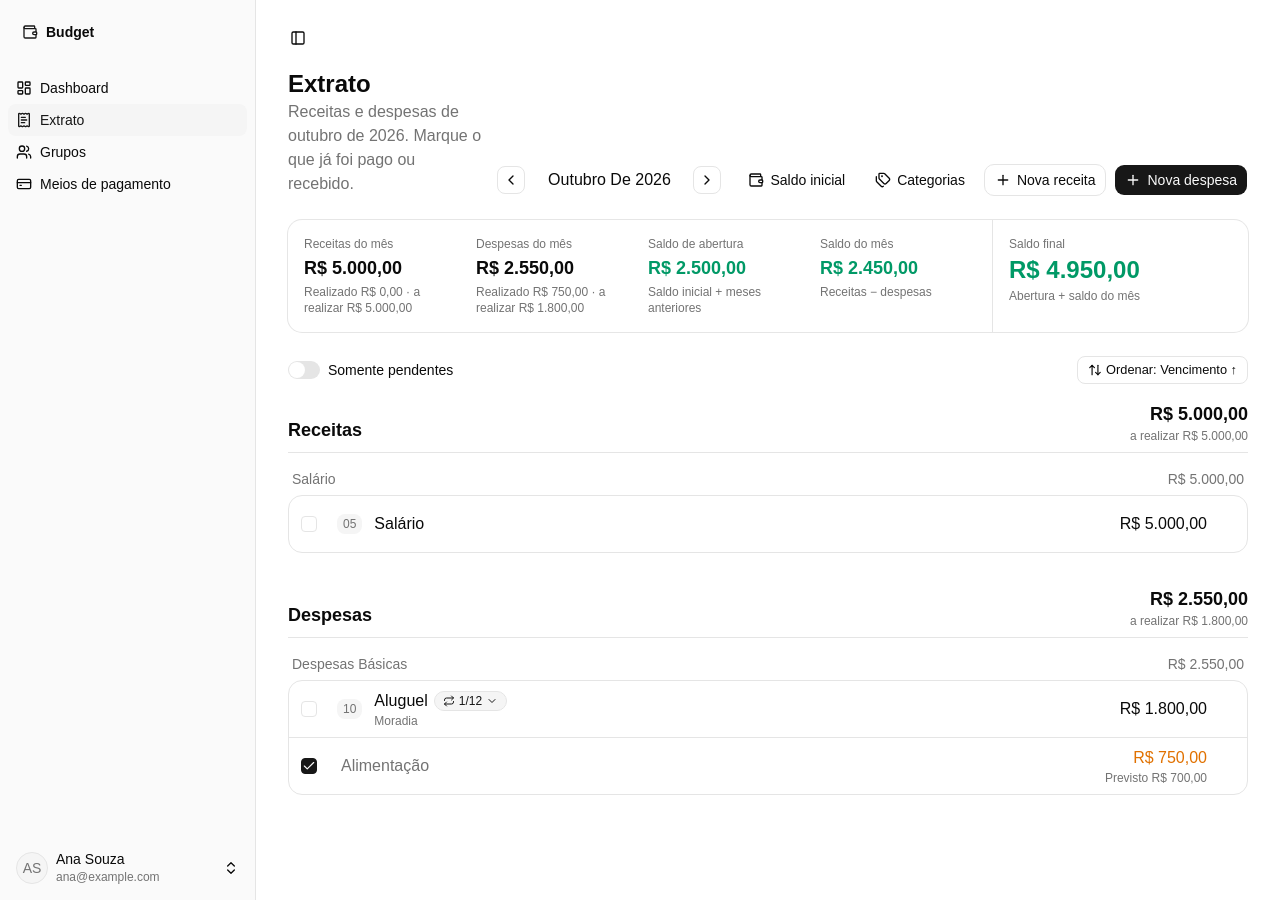
Scenario: Statement route (/extrato) › realization › edits the realized amount by clicking it, keeping the dialog open on errors
This screenshot has width=1280, height=900.
Expected: the heading "Extrato" is shown, 288,70 -> 371,97
Step 1. Click the button named "Valor realizado de Alimentação" → (1170,758), box 1133,746 -> 1207,770
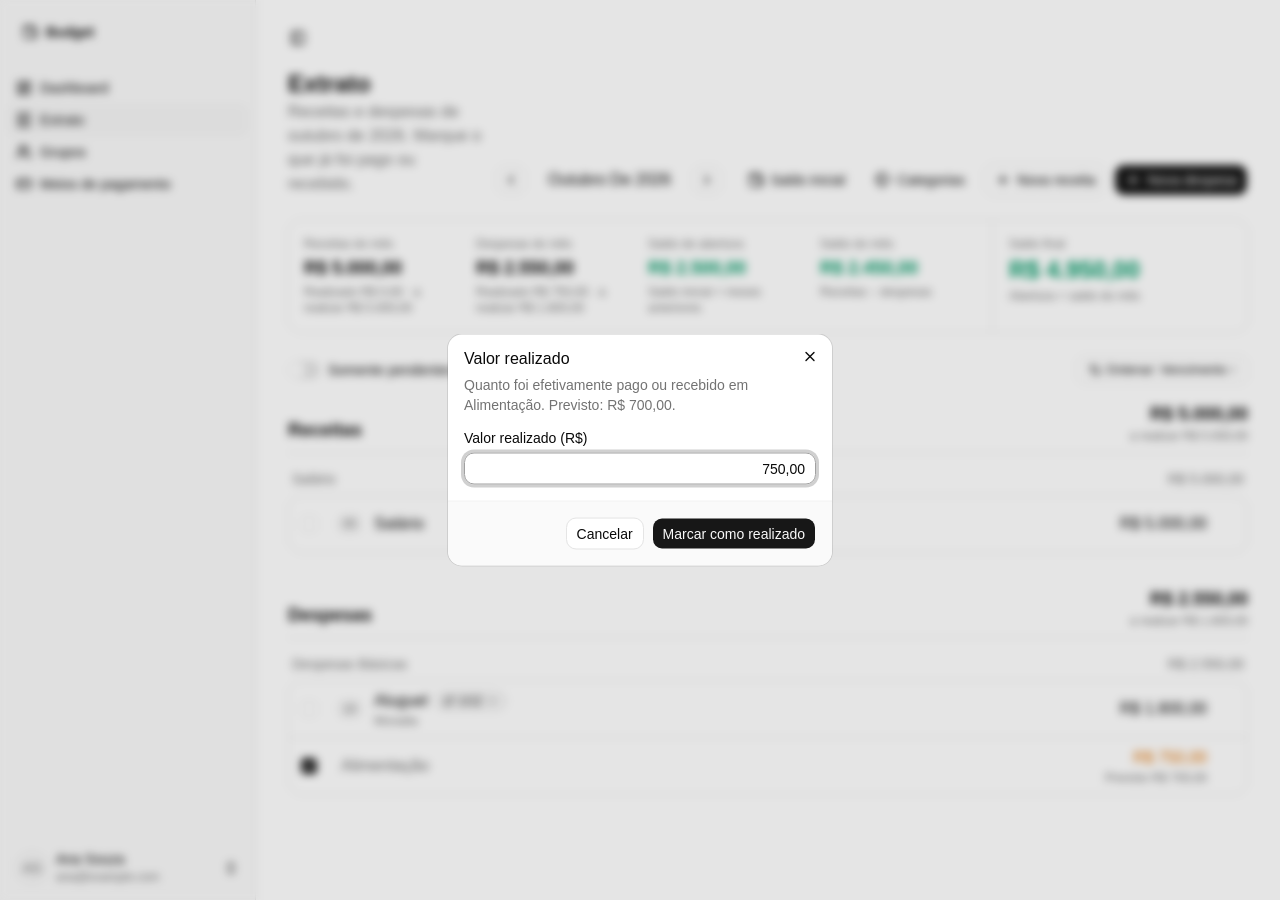
Now the field labelled "Valor realizado (R$)" holds "750,00"
Step 2. Replace the text in the field labelled "Valor realizado (R$)" with "abc" → (640,468), box 464,452 -> 816,484
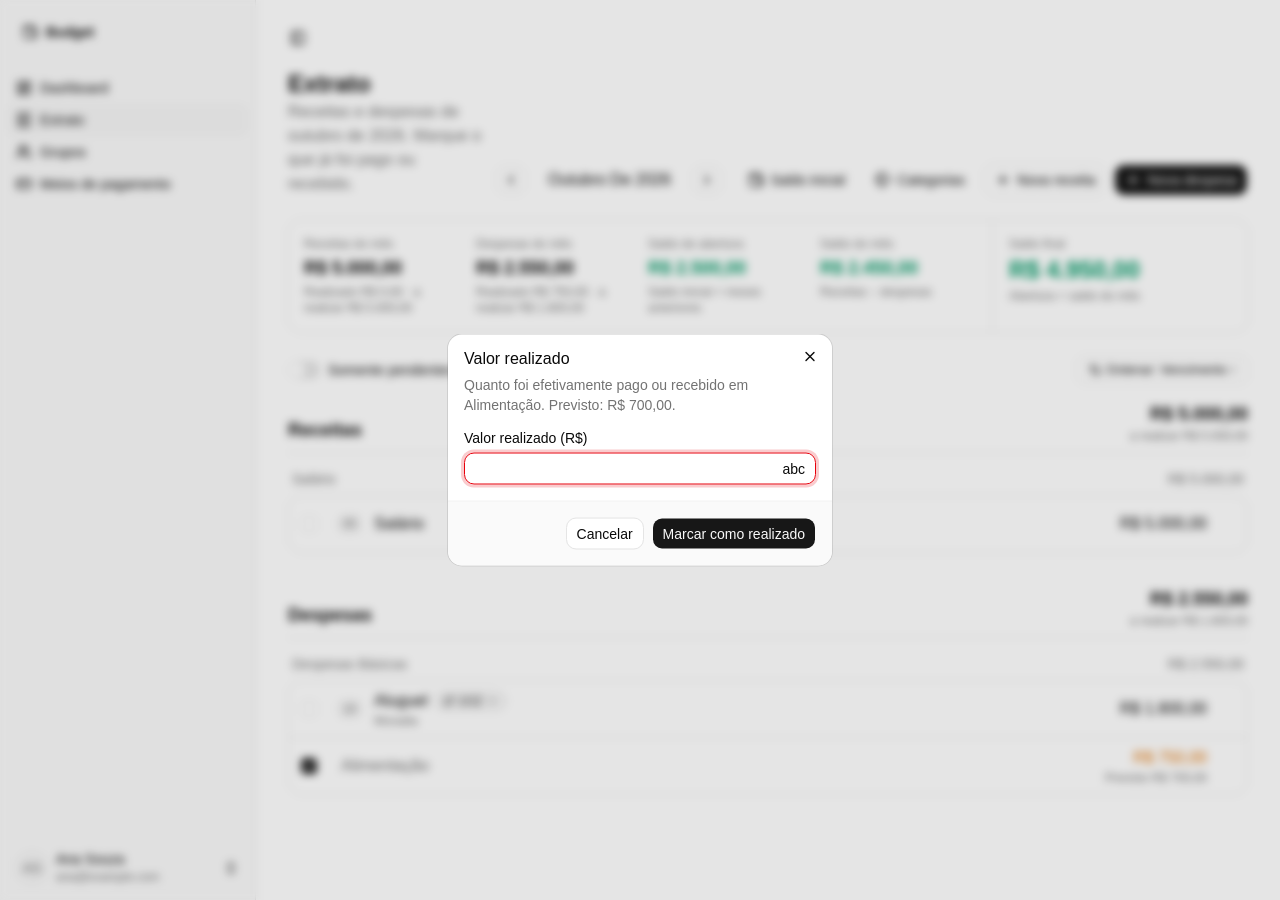
Step 3. Click the button "Marcar como realizado" → (734,534), box 652,518 -> 816,550
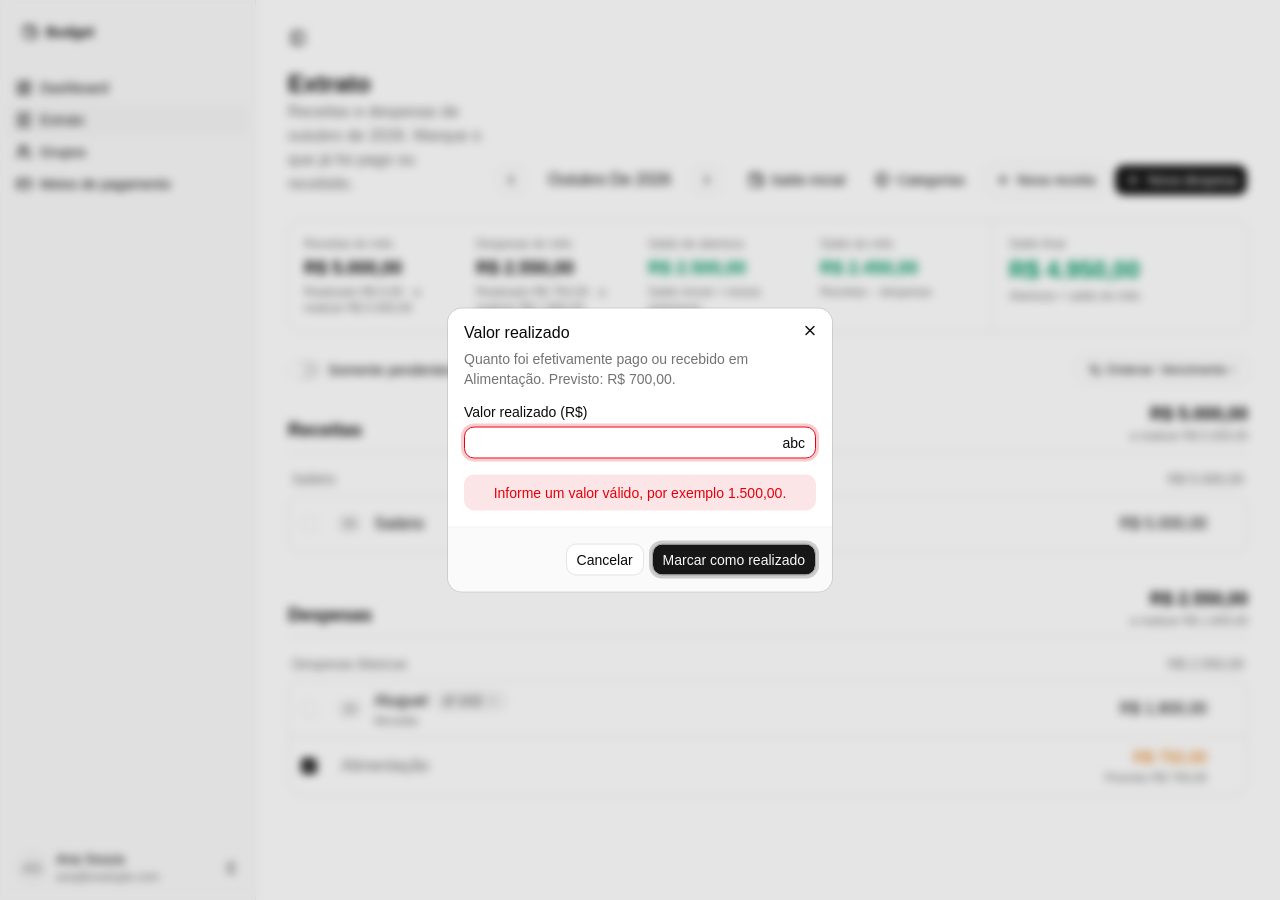
Now the text "Informe um valor válido, por exemplo 1.500,00." is shown, box 464,474 -> 816,510
Step 4. Replace the text in the field labelled "Valor realizado (R$)" with "760" → (640,442), box 464,426 -> 816,458
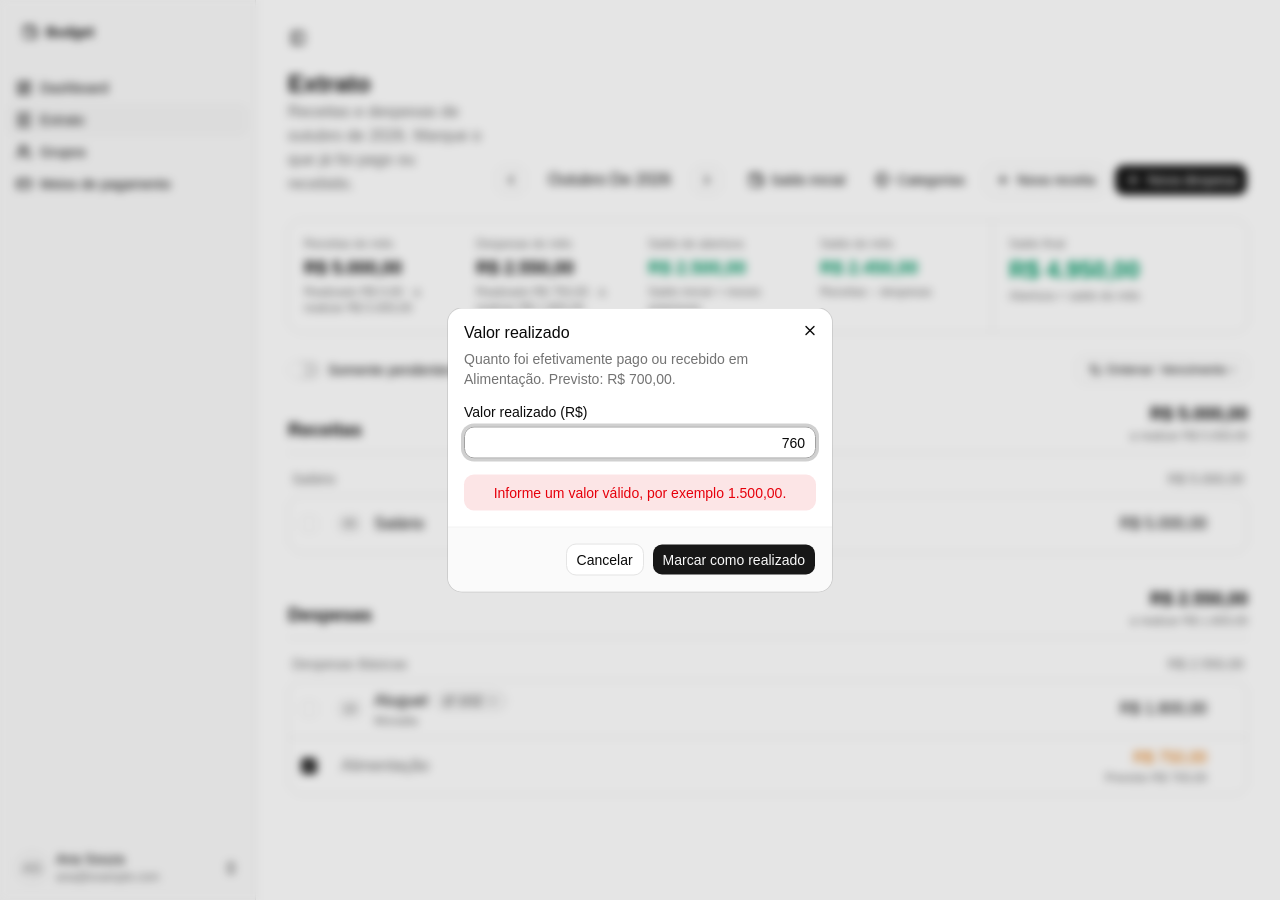
Step 5. Click the button "Marcar como realizado" → (734,560), box 652,544 -> 816,576
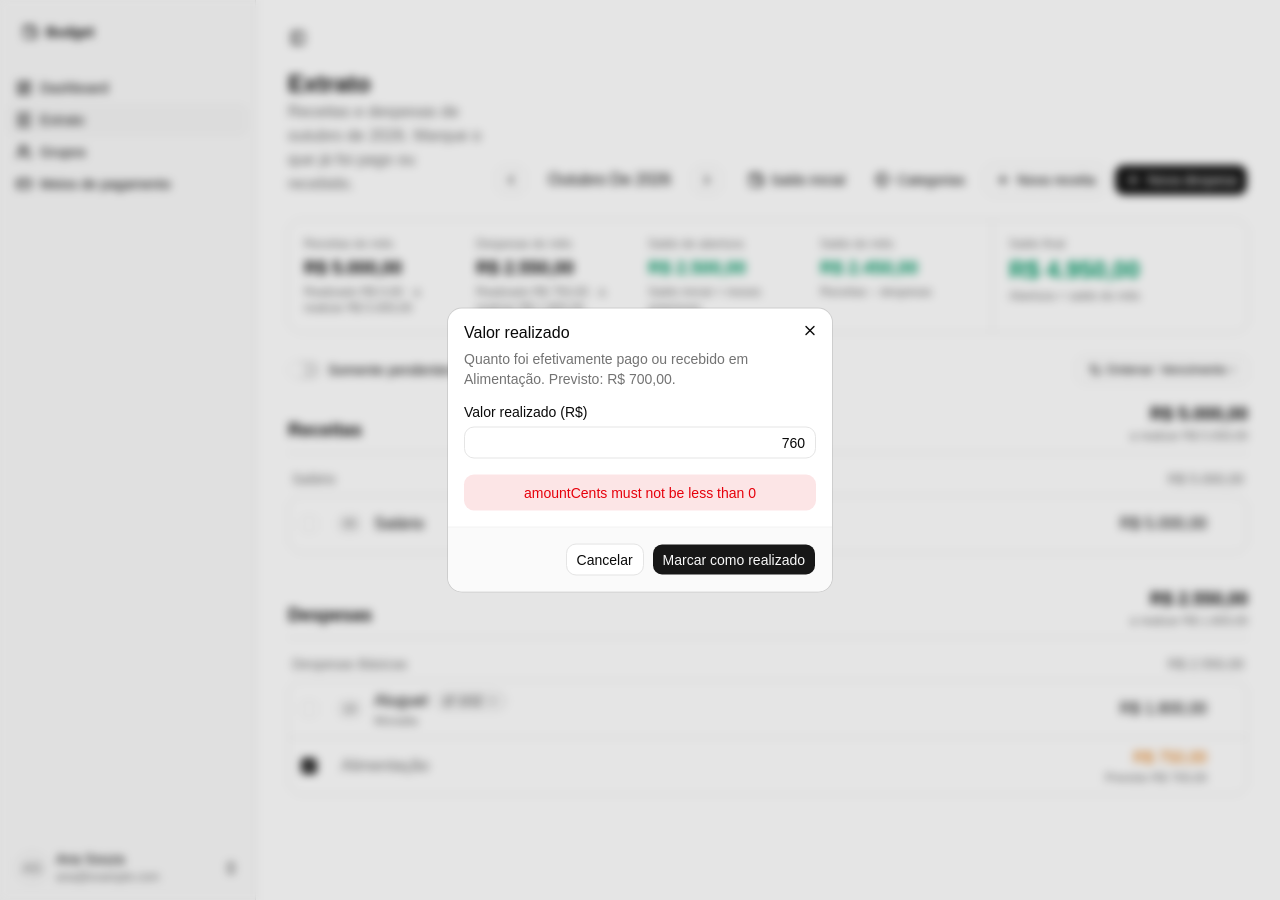
Now the text "amountCents must not be less than 0" is shown, box 464,474 -> 816,510
